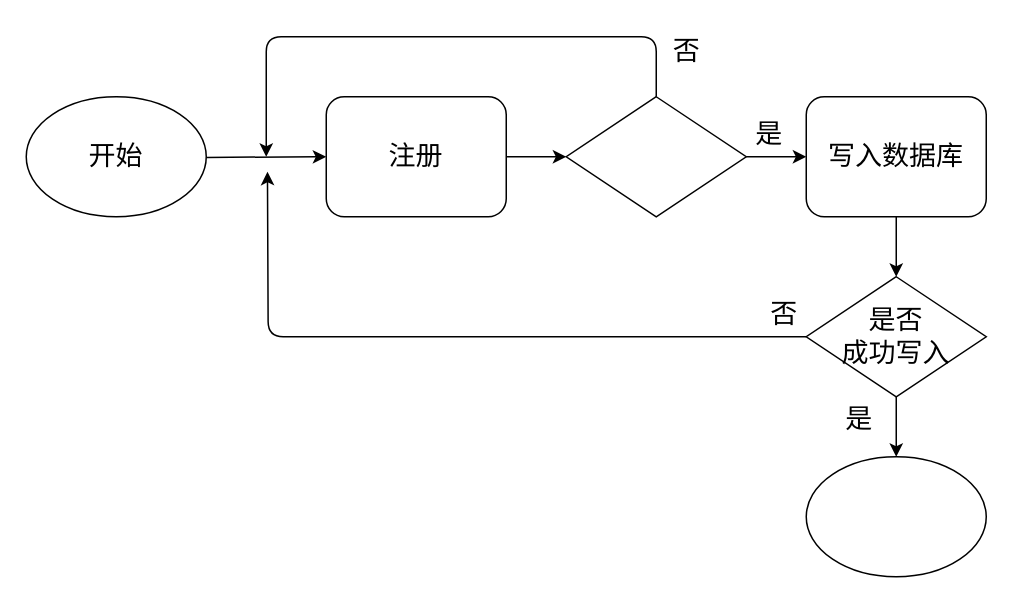
The diagram is 1013 pixels wide and 603 high, and some of its shapes have lost their labels. Each missing label, with the centre of its shape:
"是否符合 格式条件" goes at (655,156).
"注册完成" goes at (895,516).
